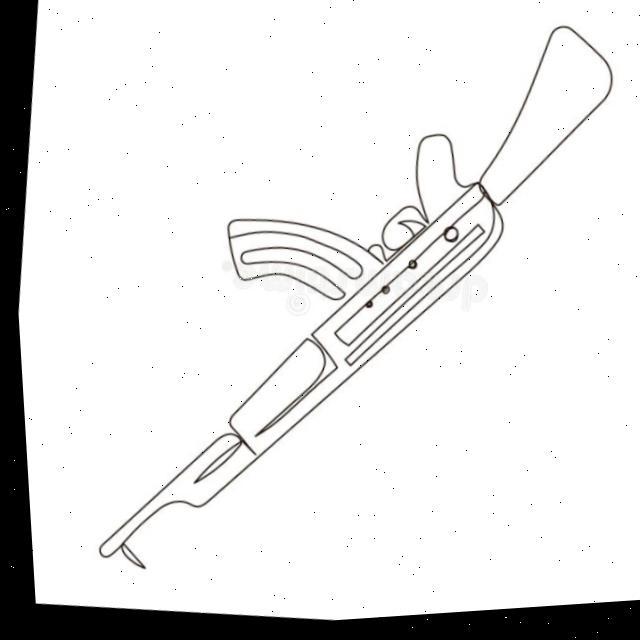firearm: (59, 0, 640, 628)
